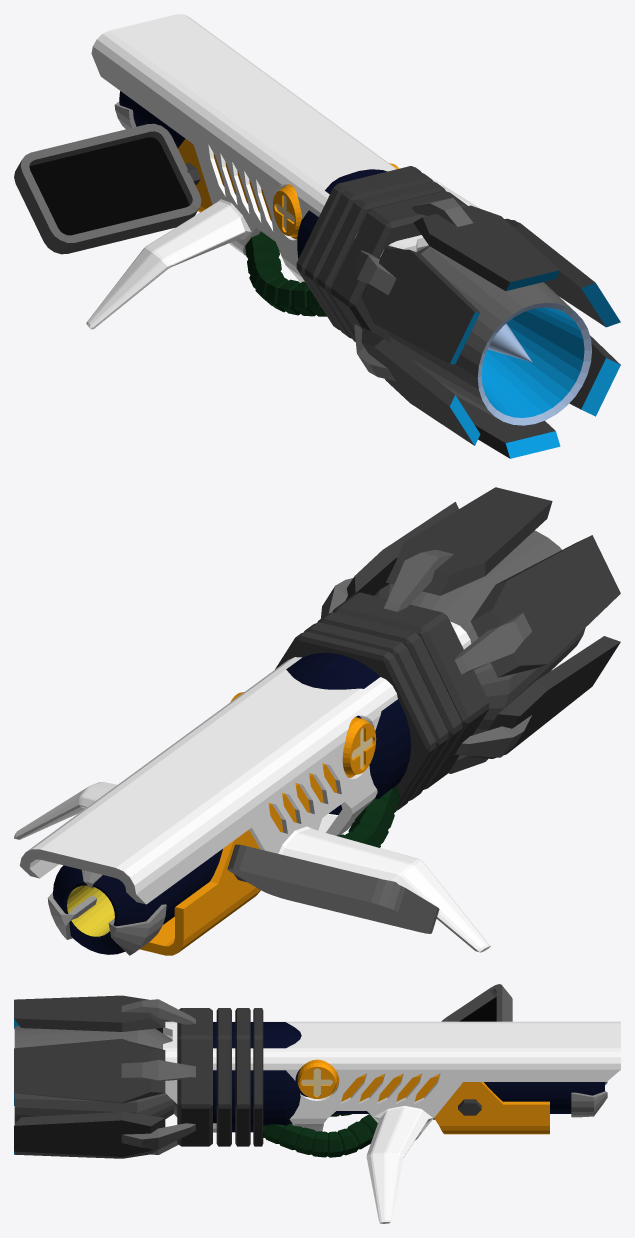
The model's file is Siv3DCannon_only.glb.
3 renders of one model, top to bottom at view 1: azimuth 30°, elevation 25°; view 2: azimuth 150°, elevation 25°; view 3: azimuth 270°, elevation 25°, orthographic. The views are drawn at different scales.
Parts seen in each view (by area): view 1: OuterShell, Fin, Core, Monitor, HeatSink, GripL, Pipe, Cylinder, InnerShell; view 2: OuterShell, Fin, Core, HeatSink, Monitor, GripL, InnerShell, GunPoint, Pipe, Cylinder, GripR; view 3: OuterShell, Fin, Core, HeatSink, InnerShell, GripR, Pipe, Monitor, Cylinder, GunPoint.
Boxes of the visible parts, bbox=[...] form: OuterShell: bbox=[91, 14, 428, 282]; Fin: bbox=[354, 198, 620, 458]; Core: bbox=[119, 91, 591, 425]; Monitor: bbox=[14, 123, 201, 254]; HeatSink: bbox=[296, 166, 467, 343]; GripL: bbox=[86, 199, 251, 329]; Pipe: bbox=[245, 231, 326, 316]; Cylinder: bbox=[273, 163, 398, 236]; InnerShell: bbox=[178, 138, 297, 239]; OuterShell: bbox=[19, 621, 471, 904]; Fin: bbox=[321, 487, 620, 773]; Core: bbox=[53, 530, 585, 954]; HeatSink: bbox=[275, 592, 489, 810]; Monitor: bbox=[227, 844, 439, 933]; GripL: bbox=[278, 826, 490, 952]; InnerShell: bbox=[140, 763, 354, 955]; GunPoint: bbox=[47, 870, 166, 955]; Pipe: bbox=[336, 786, 399, 847]; Cylinder: bbox=[230, 692, 376, 775]; GripR: bbox=[14, 782, 117, 839]; OuterShell: bbox=[163, 1021, 620, 1140]; Fin: bbox=[14, 995, 195, 1158]; Core: bbox=[14, 1022, 604, 1132]; HeatSink: bbox=[177, 1008, 263, 1146]; InnerShell: bbox=[309, 1068, 549, 1134]; GripR: bbox=[366, 1105, 432, 1223]; Pipe: bbox=[262, 1114, 434, 1157]; Monitor: bbox=[441, 984, 512, 1115]; Cylinder: bbox=[297, 1059, 337, 1098]; GunPoint: bbox=[571, 1081, 607, 1117].
Bounding box in the file's own units: 0.8614 × 0.3766 × 1.41.
